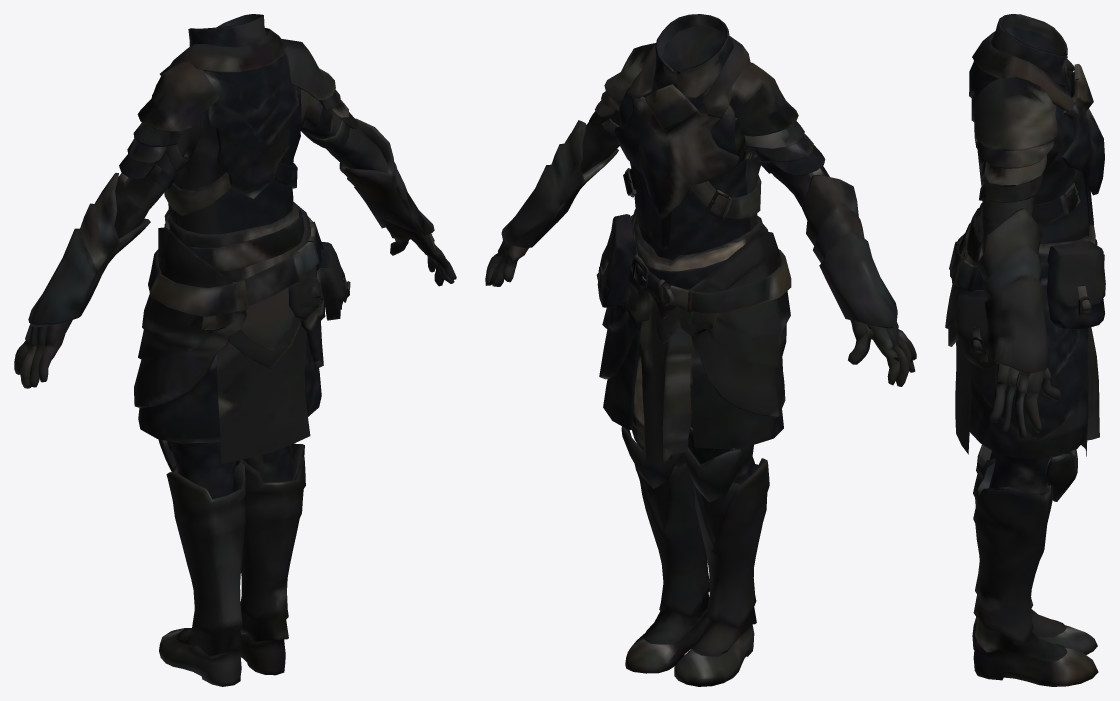
3 renders of one model, left to right at view 1: azimuth 30°, elevation 25°; view 2: azimuth 150°, elevation 25°; view 3: azimuth 270°, elevation 25°, orthographic. The views are drawn at different scales.
Visible parts, largest first — view 1: mesh_0; view 2: mesh_0; view 3: mesh_0.
Part boxes in pixels (box(x1,y1,x2,y2)): mesh_0: box(14, 14, 456, 686); mesh_0: box(485, 14, 916, 686); mesh_0: box(945, 14, 1105, 686).
Size of the model in its own units: 43.33 by 62.78 by 14.3.
1 material, 1 textured.
